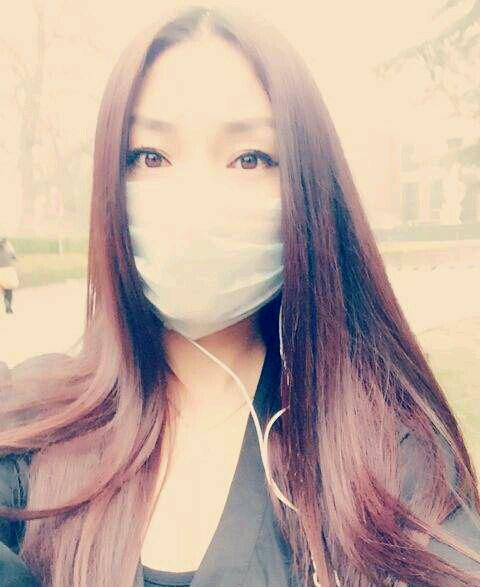OK: (93, 117, 311, 335)
